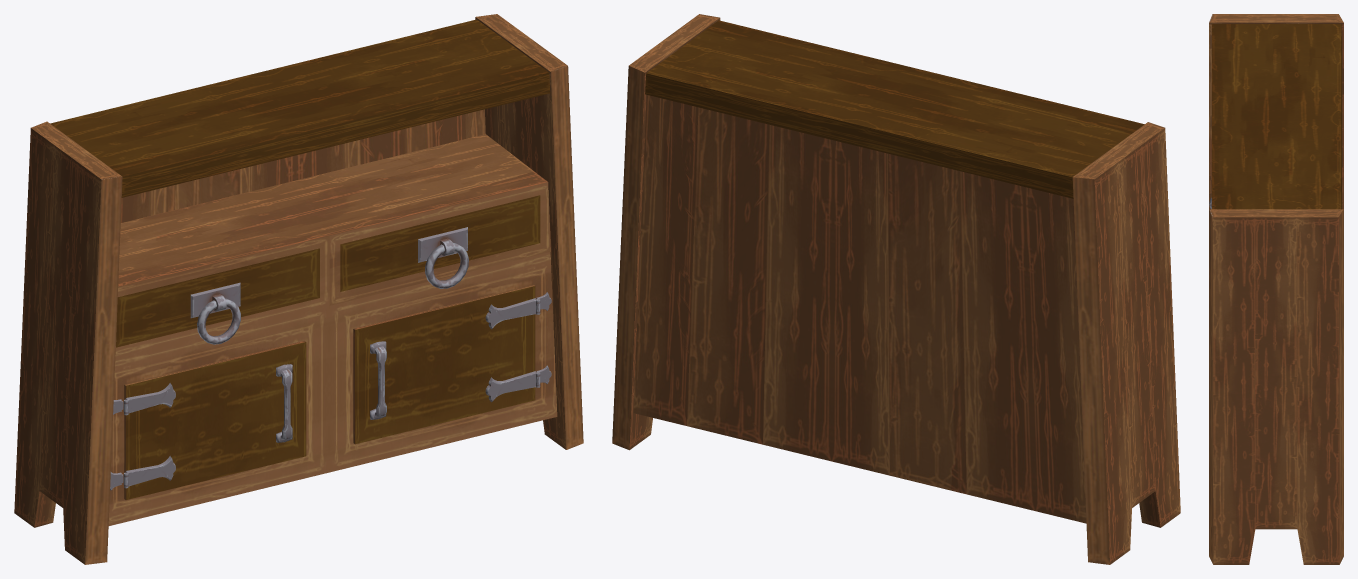
Rendered from Cabinet.gltf.
3 views of the same model, side by side, from view 1: azimuth 30°, elevation 25°; view 2: azimuth 150°, elevation 25°; view 3: azimuth 270°, elevation 25° (orthographic). The views are drawn at different scales.
Parts seen in each view (by area): view 1: Cabinet; view 2: Cabinet; view 3: Cabinet.
Part boxes in pixels (box(x1,y1,x2,y2)): Cabinet: box(14, 14, 583, 564); Cabinet: box(612, 14, 1180, 564); Cabinet: box(1209, 14, 1343, 564).
Bounding box in the file's own units: 1.36 × 0.9974 × 0.3571.
Materials: 2 (2 with a texture image).
